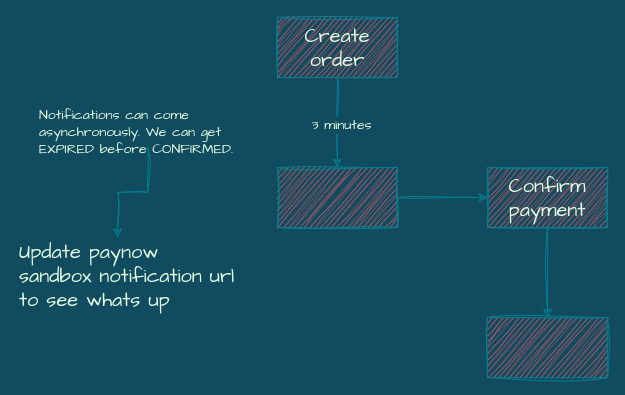
The diagram is 625 pixels wide and 395 high, and some of its shapes have lost their labels. The shapes that lost their labels are listed below. From the top down, each one's centre as x and y in pixels, then its label:
point (337, 197): Cancel Payment 3 times
point (547, 347): See if its paid
